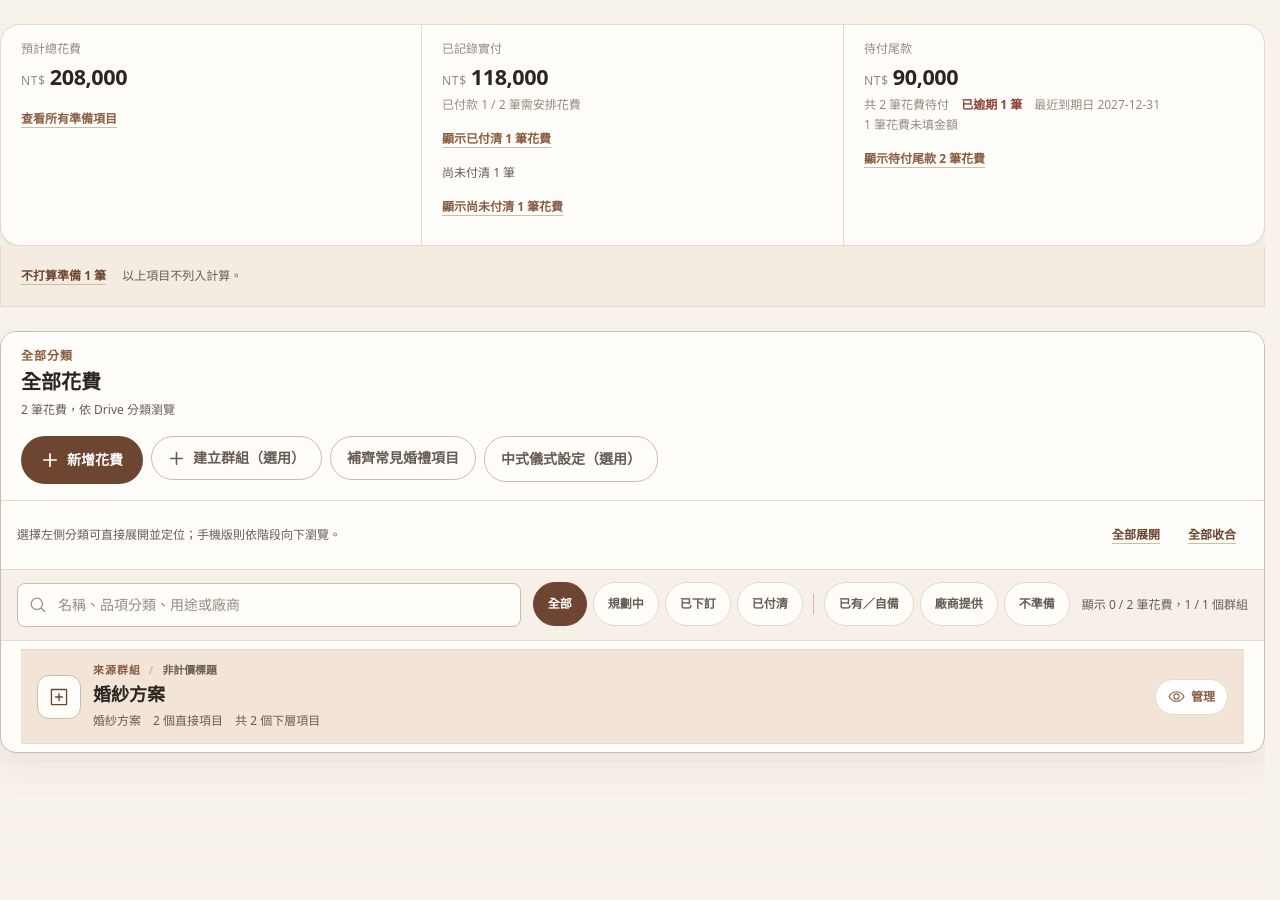
Test case: BudgetList › keeps browse counts in step with the rows that are actually listed
Expected: the text "顯示 0 / 2 筆花費，1 / 1 個群組" is shown, [1082, 597, 1248, 613]
Expected: the text "2 個直接項目" is shown, [153, 711, 223, 731]
// 拆解與刪除要看真正的結構，管理彈窗仍報實際筆數。
Step 1. Click the button with aria-label "管理群組：婚紗方案" → (1192,696), box [1155, 678, 1228, 714]
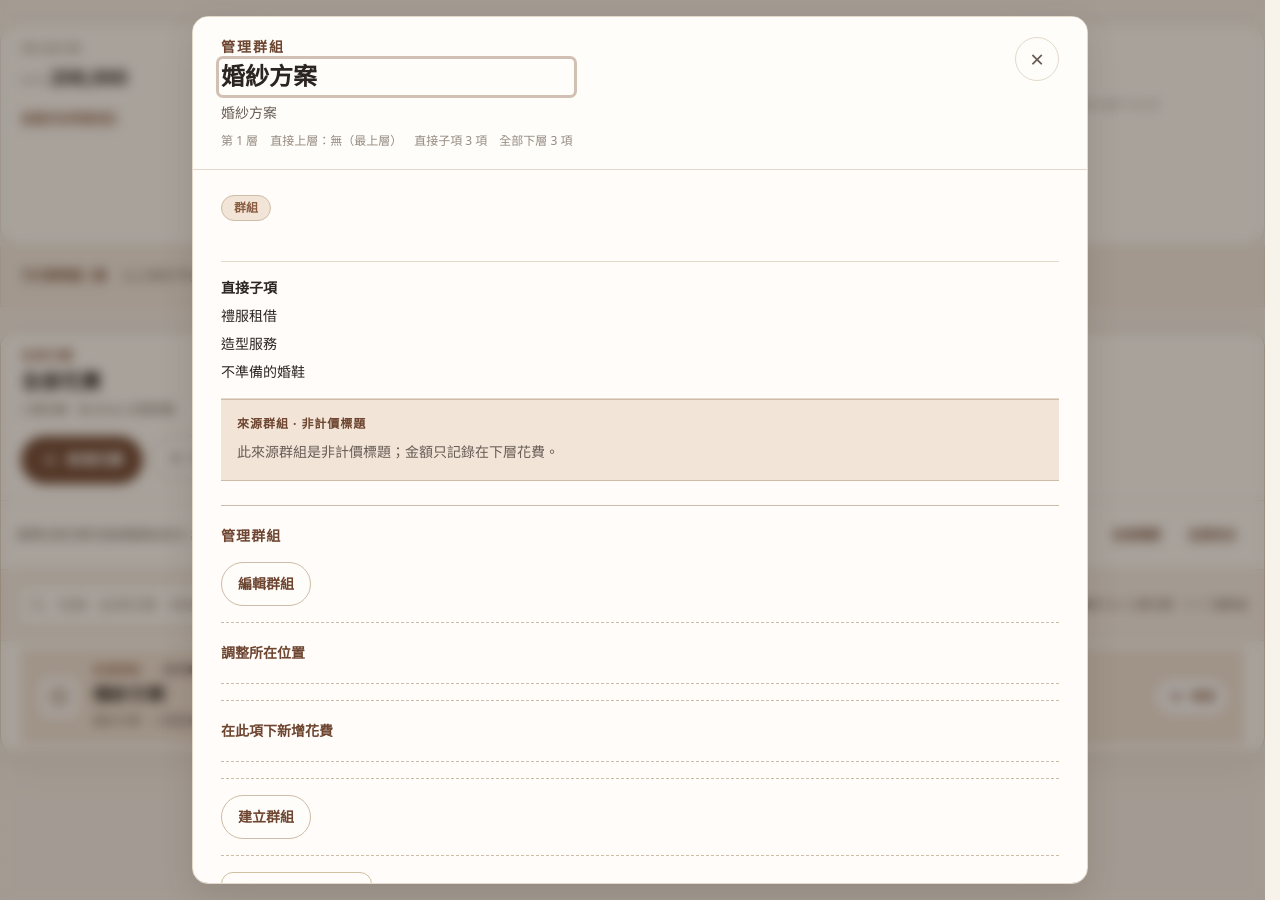
Result: the text "直接子項 3 項" is shown at [414, 133, 487, 149]
Result: the text "全部下層 3 項" is shown at [499, 133, 572, 149]
